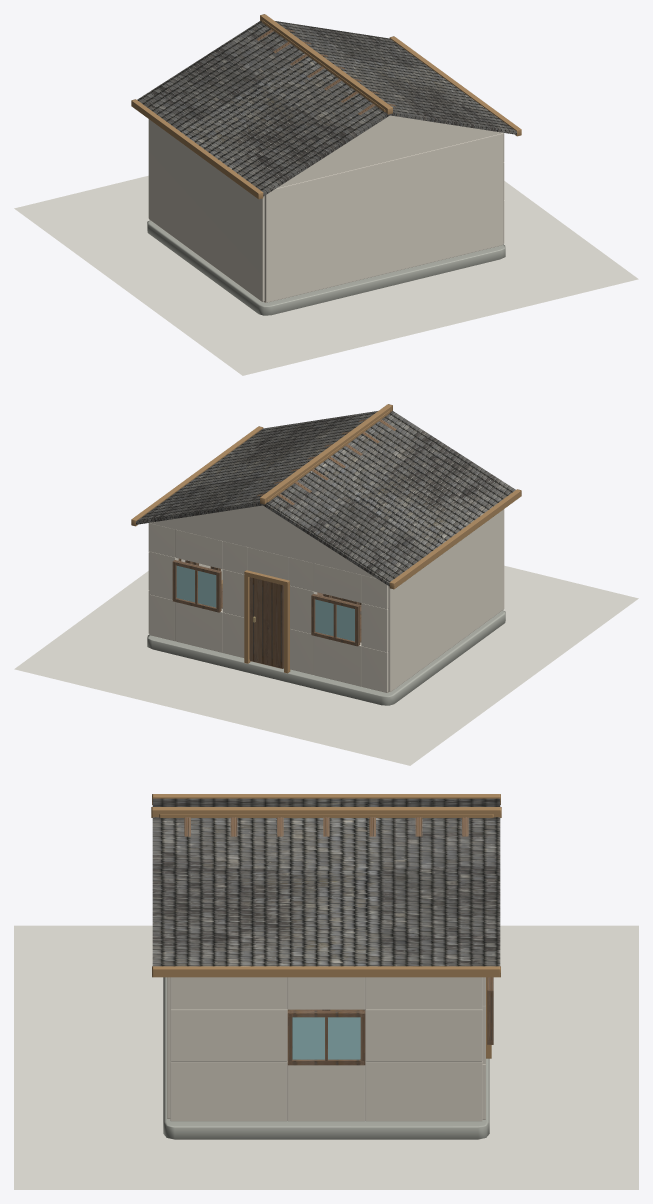
3 renders of one model, top to bottom at view 1: azimuth 30°, elevation 25°; view 2: azimuth 150°, elevation 25°; view 3: azimuth 270°, elevation 25°, orthographic. The views are drawn at different scales.
Parts seen in each view (by area): view 1: Ground, Wall.Back.Panel, Roof.Covering.Left, Wall.Left.Panel, Roof.Covering.Right, Wall.Back.Gable, House.Foundation.Slab, Roof.Covering.EaveTrim.-1, Roof.Covering.RidgeCap, Roof.Covering.EaveTrim.1; view 2: Ground, Roof.Covering.Left, Wall.Left.Panel, Roof.Covering.Right, Wall.Front.Gable, House.Foundation.Slab, Door.Front.Slab, Wall.Front.Panel.04, Wall.Front.Panel.13, Roof.Covering.EaveTrim.-1, Wall.Front.Panel.05, Wall.Front.Panel.14 (+19 smaller); view 3: Ground, Roof.Covering.Right, Wall.Right.Panel.01, Wall.Right.Panel.06, House.Foundation.Slab, Wall.Right.Panel.02, Wall.Right.Panel.07, Wall.Right.Panel.04, Roof.Covering.EaveTrim.1, Wall.Right.Panel.03, Wall.Right.Panel.08, Roof.Covering.Left (+7 smaller).
Boxes of the visible parts, box(x1,y1,x2,y2) form: Ground: box(14, 175, 638, 375); Wall.Back.Panel: box(264, 133, 503, 302); Roof.Covering.Left: box(137, 20, 390, 196); Wall.Left.Panel: box(148, 119, 264, 301); Roof.Covering.Right: box(275, 21, 516, 134); Wall.Back.Gable: box(276, 115, 503, 188); House.Foundation.Slab: box(147, 220, 505, 315); Roof.Covering.EaveTrim.-1: box(131, 99, 263, 199); Roof.Covering.RidgeCap: box(260, 14, 392, 114); Roof.Covering.EaveTrim.1: box(389, 36, 521, 136); Ground: box(14, 565, 638, 765); Roof.Covering.Left: box(262, 410, 515, 586); Wall.Left.Panel: box(388, 509, 504, 691); Roof.Covering.Right: box(136, 411, 377, 524); Wall.Front.Gable: box(149, 505, 376, 578); House.Foundation.Slab: box(147, 610, 505, 705); Door.Front.Slab: box(249, 577, 283, 668); Wall.Front.Panel.04: box(313, 636, 361, 686); Wall.Front.Panel.13: box(175, 602, 222, 652); Roof.Covering.EaveTrim.-1: box(389, 489, 521, 589); Wall.Front.Panel.05: box(313, 563, 361, 602); Wall.Front.Panel.14: box(175, 529, 222, 568); Ground: box(14, 925, 638, 1189); Roof.Covering.Right: box(152, 817, 500, 966); Wall.Right.Panel.01: box(170, 1061, 287, 1121); Wall.Right.Panel.06: box(365, 1061, 482, 1121); House.Foundation.Slab: box(163, 977, 489, 1139); Wall.Right.Panel.02: box(170, 1009, 287, 1061); Wall.Right.Panel.07: box(365, 1009, 482, 1061); Wall.Right.Panel.04: box(287, 1065, 365, 1121); Roof.Covering.EaveTrim.1: box(152, 966, 500, 977); Wall.Right.Panel.03: box(170, 977, 287, 1009); Wall.Right.Panel.08: box(365, 977, 482, 1009); Roof.Covering.Left: box(152, 798, 500, 806).
Bounding box in the file's own units: 10 × 4.4 × 10.
8 materials, 2 textured.
